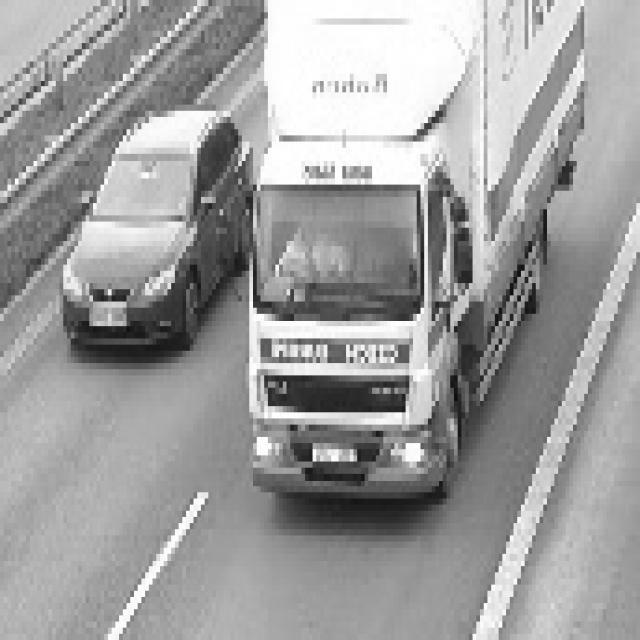truck: (221, 120, 498, 514)
